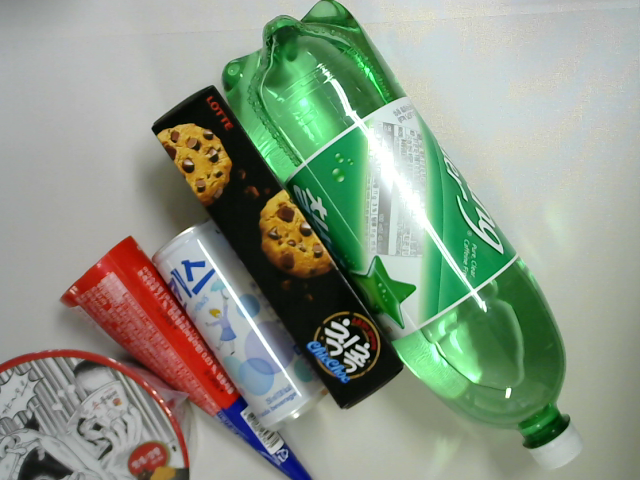Chicchok_Original_2400: (149, 81, 405, 417)
Chilseong_Cider_1.5L: (219, 1, 590, 476)
Hejangpul: (1, 345, 199, 478)
Milkies_250ml: (147, 215, 328, 433)
World_Cone_Banila: (60, 233, 319, 480)
